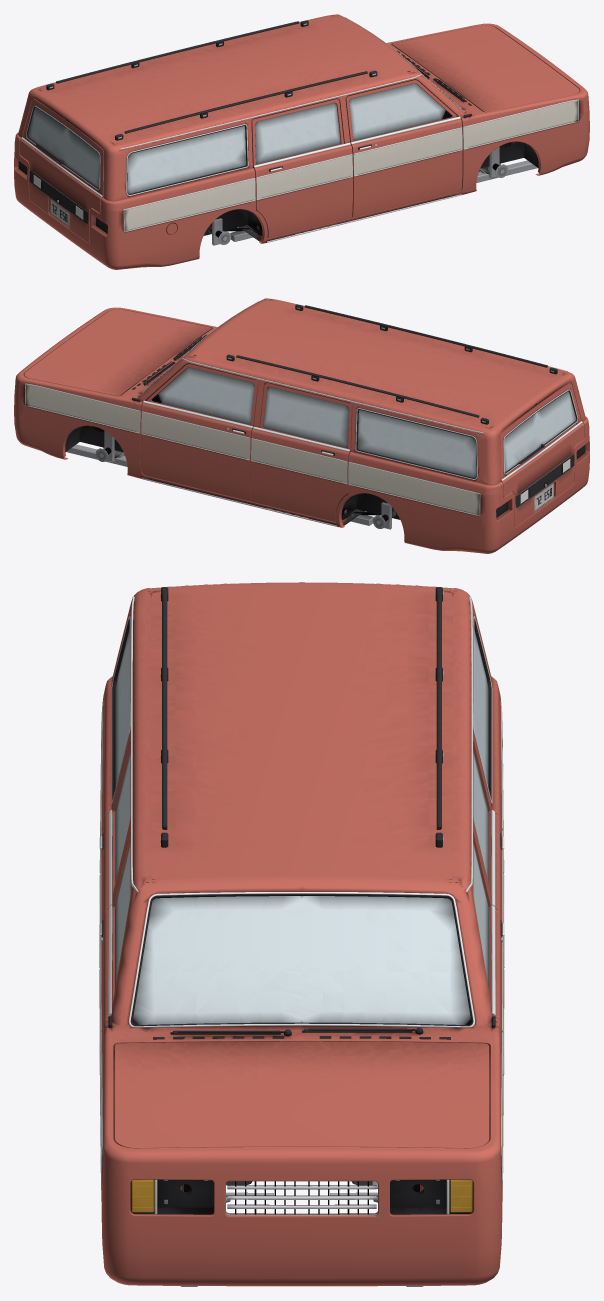
File: wagon.glb
The picture shows the model from 3 angles, top to bottom: view 1: azimuth 30°, elevation 25°; view 2: azimuth 150°, elevation 25°; view 3: azimuth 270°, elevation 25°; orthographic projection. The views are drawn at different scales.
Visible parts, largest first — view 1: BODY, P_door_FR, P_hood, P_door_RR, P_trunk, GLASS, PG_door_FR, PG_door_RR, PG_trunk, UNDER, KNUCKLE_hub_FR, KNUCKLE_hub_RR; view 2: BODY, P_door_FL, P_hood, P_door_RL, P_trunk, GLASS, PG_door_FL, PG_door_RL, PG_trunk, UNDER, KNUCKLE_hub_FL, KNUCKLE_hub_RL; view 3: BODY, GLASS, P_hood, P_door_FL, P_door_FR, P_door_RL, P_door_RR, PG_door_RL, PG_door_RR, PG_door_FL, PG_door_FR.
Boxes of the visible parts, x1,y1,x2,y2 form: BODY: (14,14,589,269); P_door_FR: (345,80,462,217); P_hood: (392,25,579,112); P_door_RR: (251,98,352,237); P_trunk: (19,99,103,243); GLASS: (127,126,246,193); PG_door_FR: (349,83,451,140); PG_door_RR: (255,102,340,164); PG_trunk: (27,107,99,188); UNDER: (203,141,538,241); KNUCKLE_hub_FR: (489,147,508,178); KNUCKLE_hub_RR: (212,218,231,245); BODY: (14,298,589,553); P_door_FL: (141,364,258,501); P_hood: (24,309,211,396); P_door_RL: (251,382,352,521); P_trunk: (500,383,584,527); GLASS: (357,410,476,477); PG_door_FL: (152,367,254,424); PG_door_RL: (263,386,348,448); PG_trunk: (504,391,576,472); UNDER: (65,425,400,525); KNUCKLE_hub_FL: (95,431,114,462); KNUCKLE_hub_RL: (372,502,391,529); BODY: (99,582,504,1286); GLASS: (115,629,488,1024); P_hood: (114,1041,489,1148); P_door_FL: (471,827,504,1075); P_door_FR: (99,827,132,1075); P_door_RL: (473,735,504,967); P_door_RR: (99,735,130,967); PG_door_RL: (473,750,488,882); PG_door_RR: (115,750,130,882); PG_door_FL: (473,843,488,988); PG_door_FR: (115,843,130,988).
Size of the model in its own units: 4.81 by 1.35 by 1.73.
